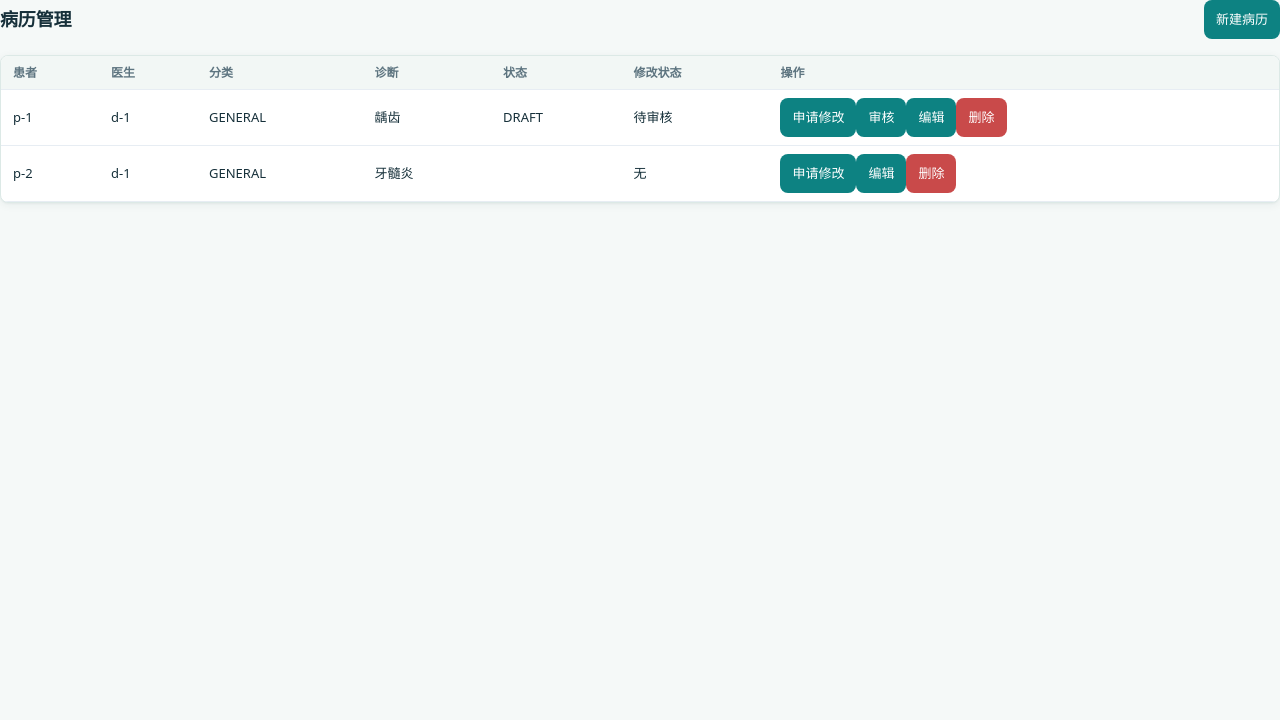
Test: MedicalRecordsPage › rejects a pending edit request with a review note
Expected: the text "龋齿" is shown, [362, 90, 491, 146]
Click the button "审核" at [882, 118], box [856, 98, 906, 137]
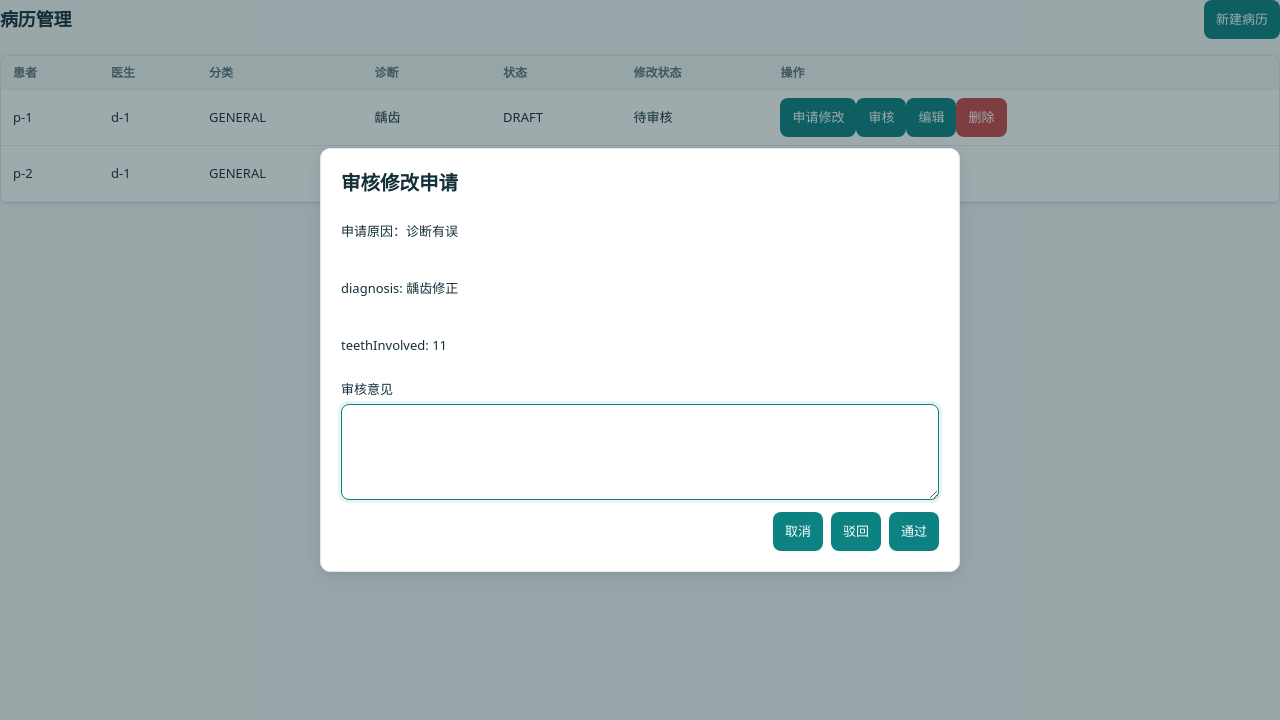
Type "证据不足" into the text box labelled "审核意见" at [640, 452], box [341, 404, 939, 500]
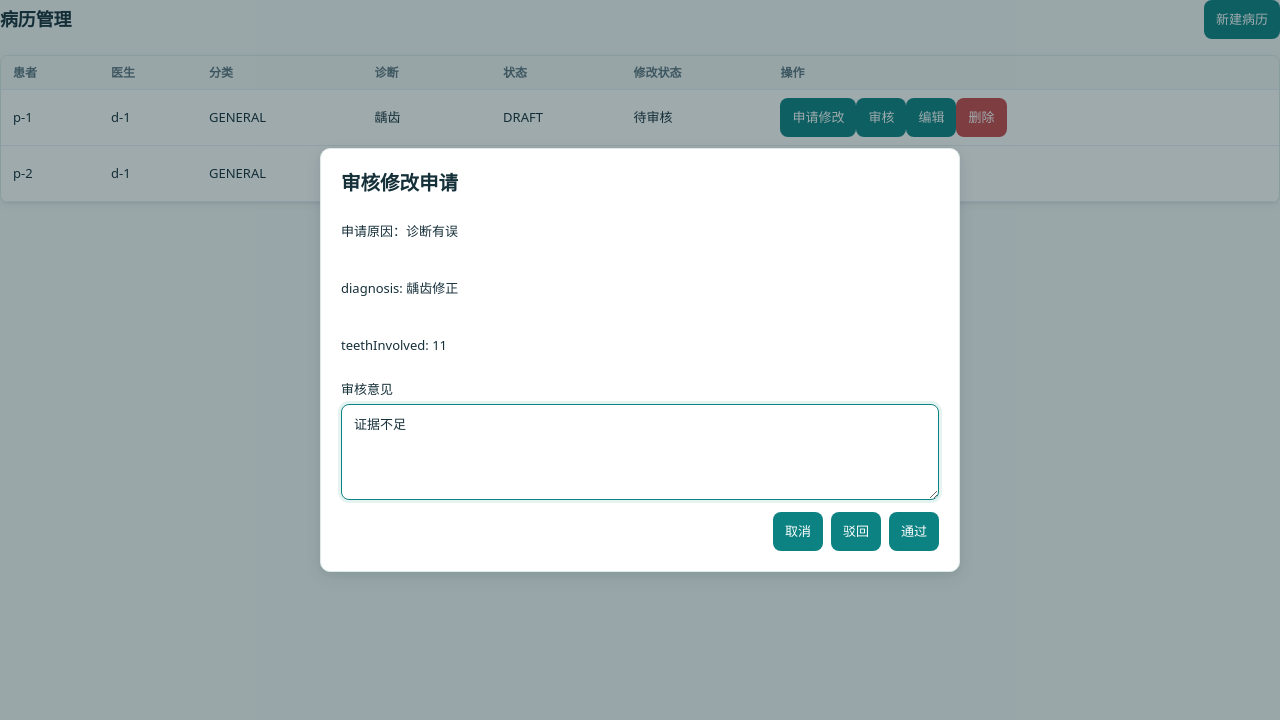
Click the button "驳回" at [856, 532], box [831, 512, 881, 551]
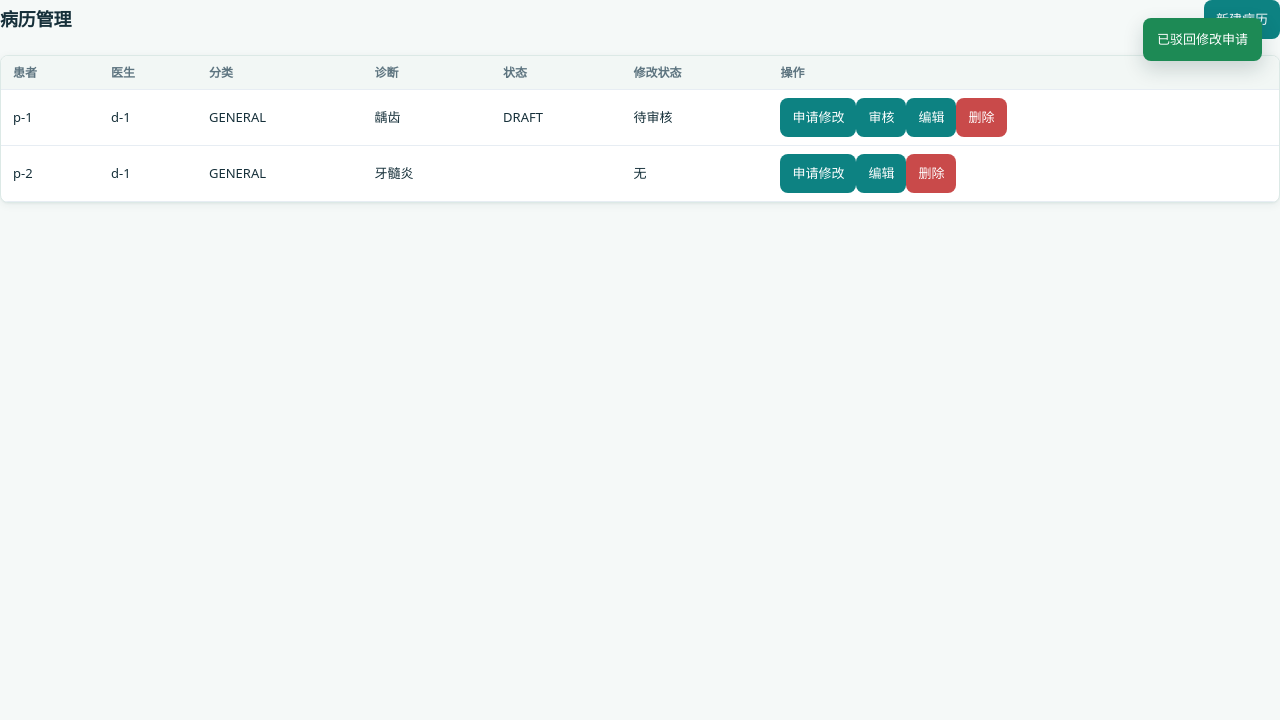
Expected: the text "已驳回修改申请" is shown, [1143, 18, 1262, 61]
